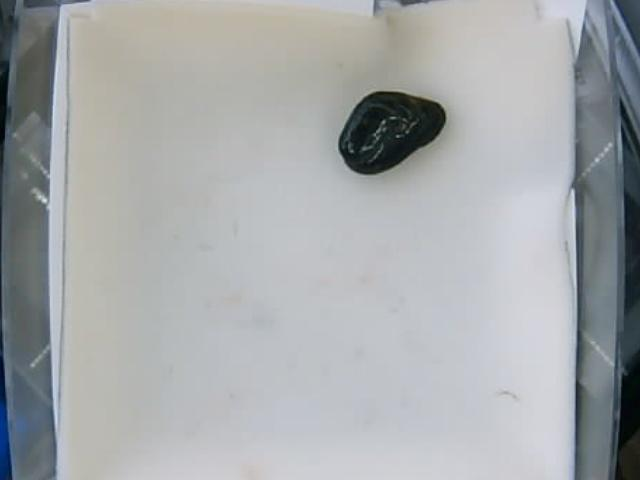Pebble: (337, 91, 447, 173)
